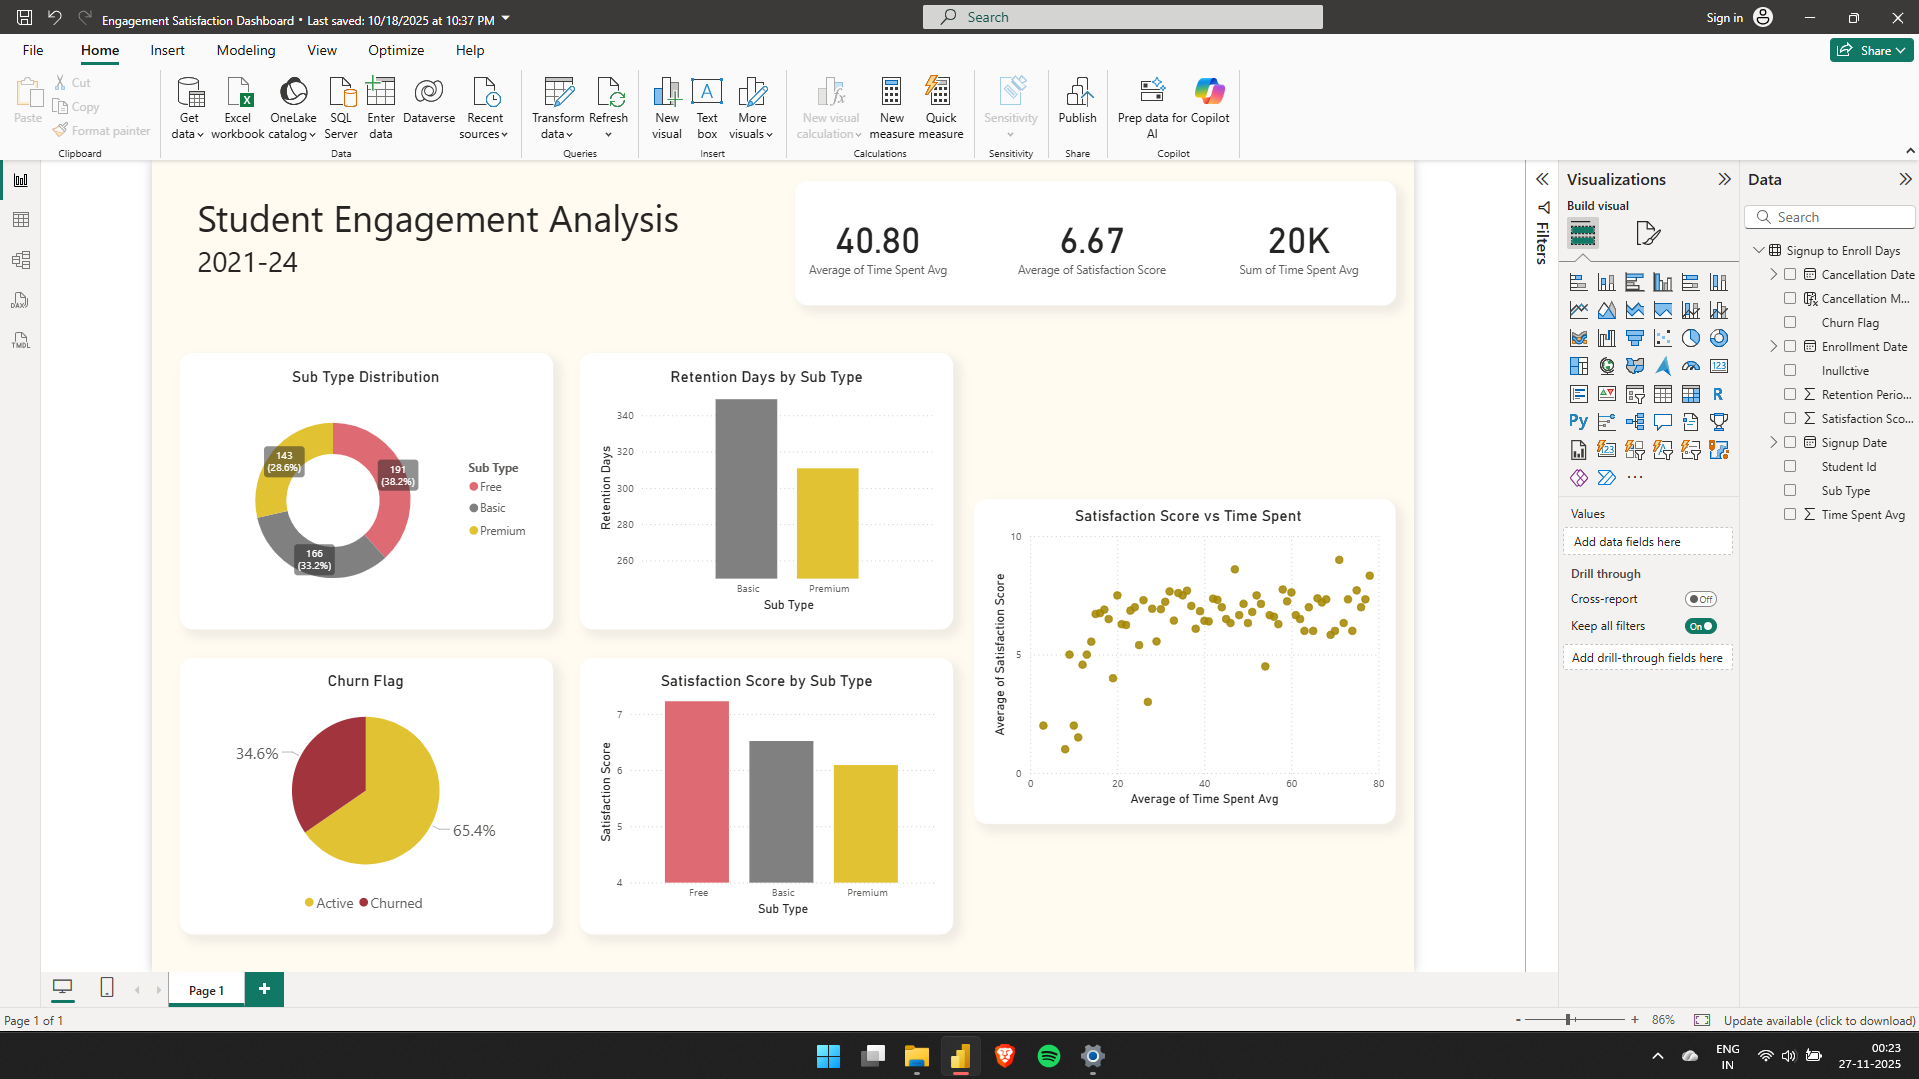

The dashboard page shown, as its layout file describes it:
{"tool":"powerbi","page":{"name":"Page 1","canvas":[1460,940],"ordinal":0},"visuals":[{"type":"shape","box":[952,392,488,376],"z":0},{"type":"shape","box":[496,576,432,320],"z":1000},{"type":"shape","box":[32,576,432,320],"z":2000},{"type":"shape","box":[496,224,432,320],"z":3000},{"type":"shape","box":[32,224,432,320],"z":4000},{"type":"donutChart","title":"Sub Type Distribution","fields":{"Y":["CountNonNull(Engagement Data.Student Id)"],"Category":["Engagement Data.Sub Type"]},"box":[48,240,400,288],"z":5000},{"type":"clusteredColumnChart","title":"Retention Days by Sub Type","fields":{"Y":["Avg(Engagement Data.Retention Period (Days))"],"Category":["Engagement Data.Sub Type"]},"box":[512,240,400,288],"z":6000},{"type":"clusteredColumnChart","title":"Satisfaction Score by Sub Type","fields":{"Category":["Engagement Data.Sub Type"],"Y":["Avg(Engagement Data.Satisfaction Score)"]},"box":[512,592,400,288],"z":7000},{"type":"scatterChart","title":"Satisfaction Score vs Time Spent","fields":{"X":["Avg(Engagement Data.Time Spent Avg)"],"Y":["Avg(Engagement Data.Satisfaction Score)"],"Category":["Engagement Data.Time Spent Avg"]},"box":[968,400,464,352],"z":8000},{"type":"shape","box":[744,24,696,144],"z":9000},{"type":"pieChart","title":"Churn Flag","fields":{"Category":["Signup to Enroll Days.Churn Flag"],"Y":["CountNonNull(Signup to Enroll Days.Churn Flag)"]},"box":[48,592,400,288],"z":10000},{"type":"card","fields":{"Values":["Avg(Signup to Enroll Days.Time Spent Avg)"]},"box":[752,32,176,128],"z":11000},{"type":"card","fields":{"Values":["Sum(Signup to Enroll Days.Time Spent Avg)"]},"box":[1232,32,192,128],"z":12000},{"type":"card","fields":{"Values":["Avg(Signup to Enroll Days.Satisfaction Score)"]},"box":[992,32,192,128],"z":13000},{"type":"textbox","box":[48,32,592,128],"z":14000}]}

Visuals, with their boxes on the page's 1460x940 design canvas (x1, y1, x2, y2). These are canvas units, not pixel positions in the 1919x1079 screenshot, which may show the page scaled, cropped or inside an application window:
shape: [x1=952, y1=392, x2=1440, y2=768]
shape: [x1=496, y1=576, x2=928, y2=896]
shape: [x1=32, y1=576, x2=464, y2=896]
shape: [x1=496, y1=224, x2=928, y2=544]
shape: [x1=32, y1=224, x2=464, y2=544]
"Sub Type Distribution" donutChart: [x1=48, y1=240, x2=448, y2=528]
"Retention Days by Sub Type" clusteredColumnChart: [x1=512, y1=240, x2=912, y2=528]
"Satisfaction Score by Sub Type" clusteredColumnChart: [x1=512, y1=592, x2=912, y2=880]
"Satisfaction Score vs Time Spent" scatterChart: [x1=968, y1=400, x2=1432, y2=752]
shape: [x1=744, y1=24, x2=1440, y2=168]
"Churn Flag" pieChart: [x1=48, y1=592, x2=448, y2=880]
card - Avg(Signup to Enroll Days.Time Spent Avg): [x1=752, y1=32, x2=928, y2=160]
card - Sum(Signup to Enroll Days.Time Spent Avg): [x1=1232, y1=32, x2=1424, y2=160]
card - Avg(Signup to Enroll Days.Satisfaction Score): [x1=992, y1=32, x2=1184, y2=160]
textbox: [x1=48, y1=32, x2=640, y2=160]
